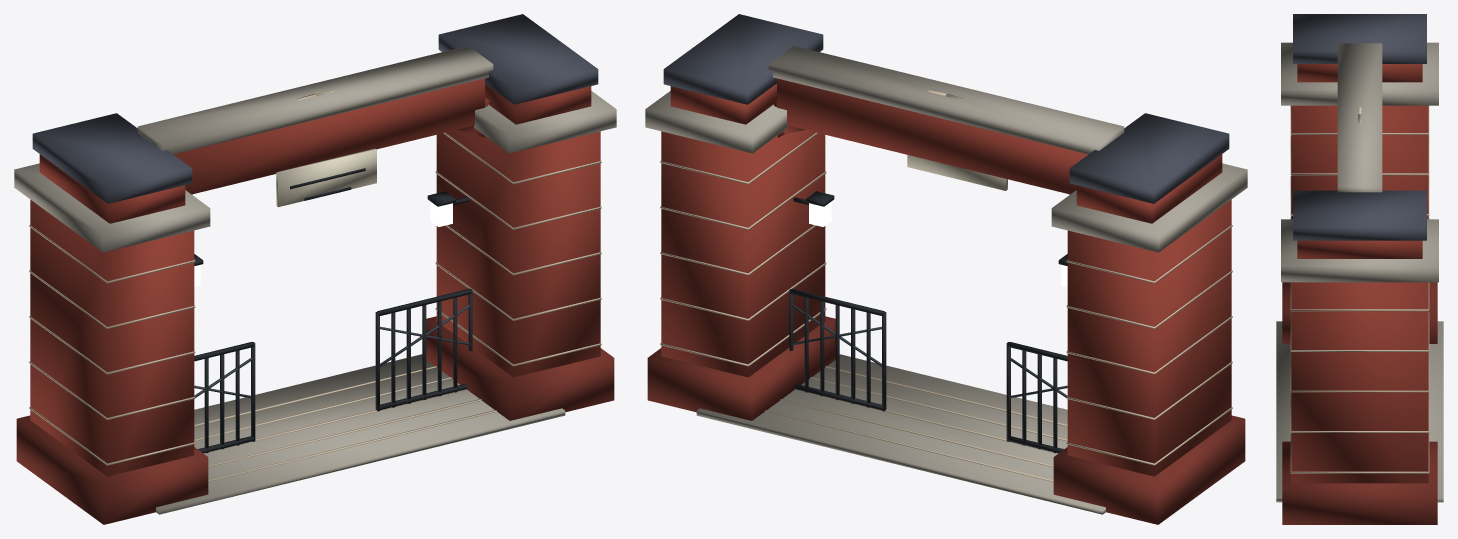
The model's file is eifel_historic_paddock_archway.glb.
The picture shows the model from 3 angles, left to right: view 1: azimuth 30°, elevation 25°; view 2: azimuth 150°, elevation 25°; view 3: azimuth 270°, elevation 25°; orthographic projection. The views are drawn at different scales.
Parts seen in each view (by area): view 1: Surface_brick, Surface_stone, Surface_brick_dark, Surface_roof, Surface_mortar, Surface_iron, Surface_plaque, Surface_iron_light; view 2: Surface_brick, Surface_stone, Surface_brick_dark, Surface_roof, Surface_mortar, Surface_iron, Surface_plaque, Surface_iron_light; view 3: Surface_brick, Surface_stone, Surface_roof, Surface_brick_dark, Surface_mortar.
Boxes of the visible parts, bbox=[...] form: Surface_brick: bbox=[30, 78, 600, 476]; Surface_stone: bbox=[14, 46, 616, 514]; Surface_brick_dark: bbox=[16, 316, 614, 524]; Surface_roof: bbox=[32, 14, 598, 203]; Surface_mortar: bbox=[29, 90, 601, 481]; Surface_iron: bbox=[194, 168, 472, 453]; Surface_plaque: bbox=[276, 148, 376, 207]; Surface_iron_light: bbox=[194, 304, 469, 398]; Surface_brick: bbox=[661, 78, 1231, 476]; Surface_stone: bbox=[645, 46, 1247, 514]; Surface_brick_dark: bbox=[647, 316, 1245, 524]; Surface_roof: bbox=[663, 14, 1229, 203]; Surface_mortar: bbox=[660, 90, 1232, 481]; Surface_iron: bbox=[789, 191, 1067, 453]; Surface_plaque: bbox=[907, 155, 1007, 190]; Surface_iron_light: bbox=[792, 304, 1067, 398]; Surface_brick: bbox=[1291, 64, 1428, 483]; Surface_stone: bbox=[1276, 42, 1443, 502]; Surface_roof: bbox=[1293, 14, 1426, 240]; Surface_brick_dark: bbox=[1282, 282, 1437, 524]; Surface_mortar: bbox=[1290, 106, 1429, 473].
Bounding box in the file's own units: 17.7 × 11.08 × 5.6.
